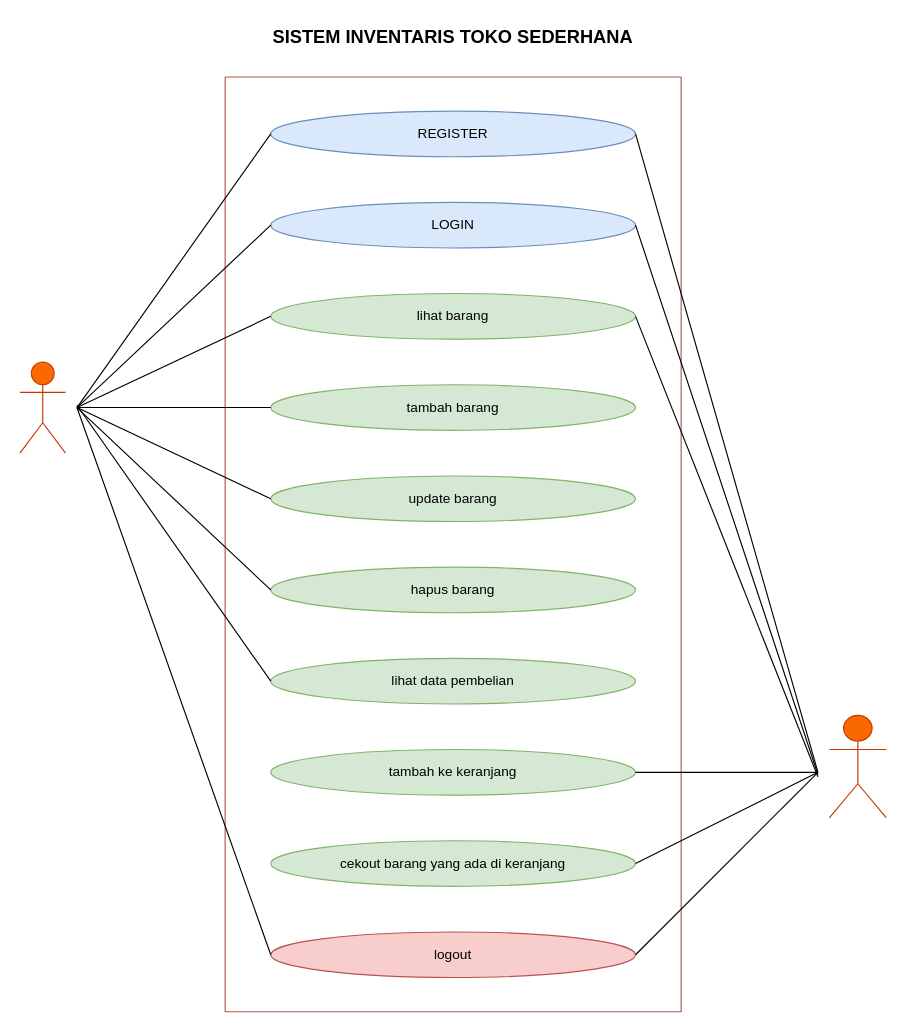
Some shapes in this 906 by 1032 pixel diagram are drawn without their labels. Each missing label, with the centre of its shape:
"admin" goes at point (42, 407).
"user" goes at point (857, 766).
